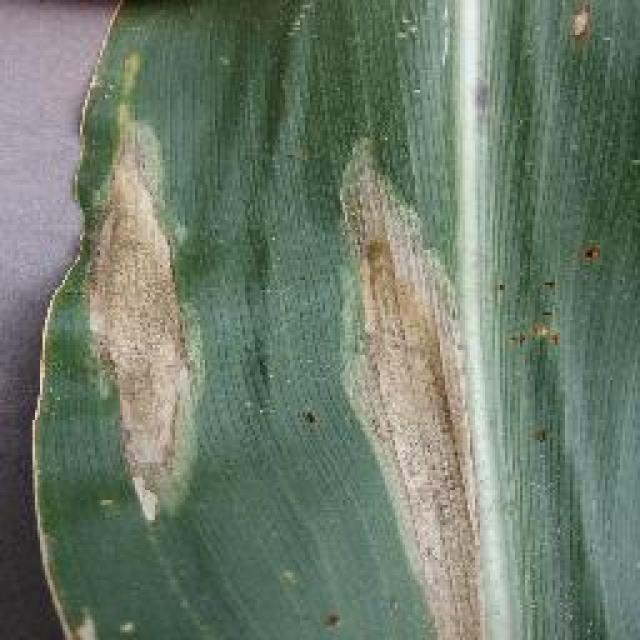Corn___Northern_Leaf_Blight: (20, 0, 632, 640)
